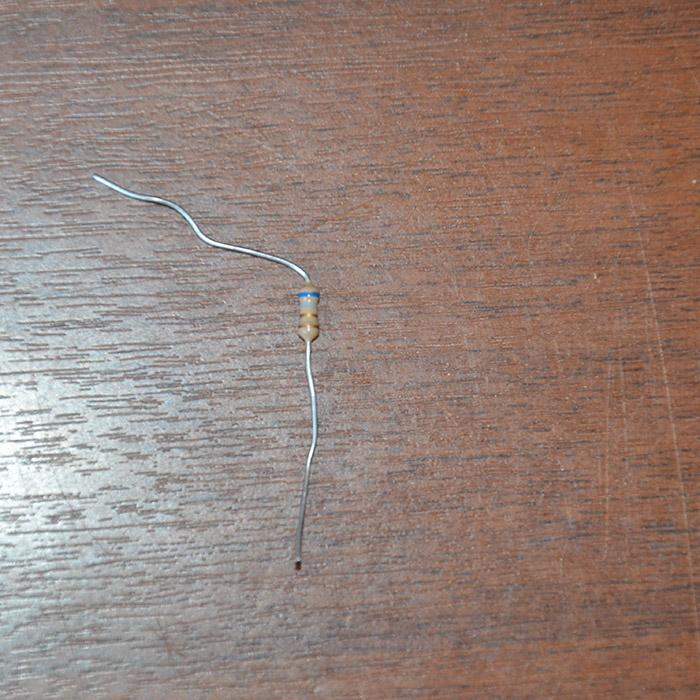resistor: (296, 281, 322, 343)
